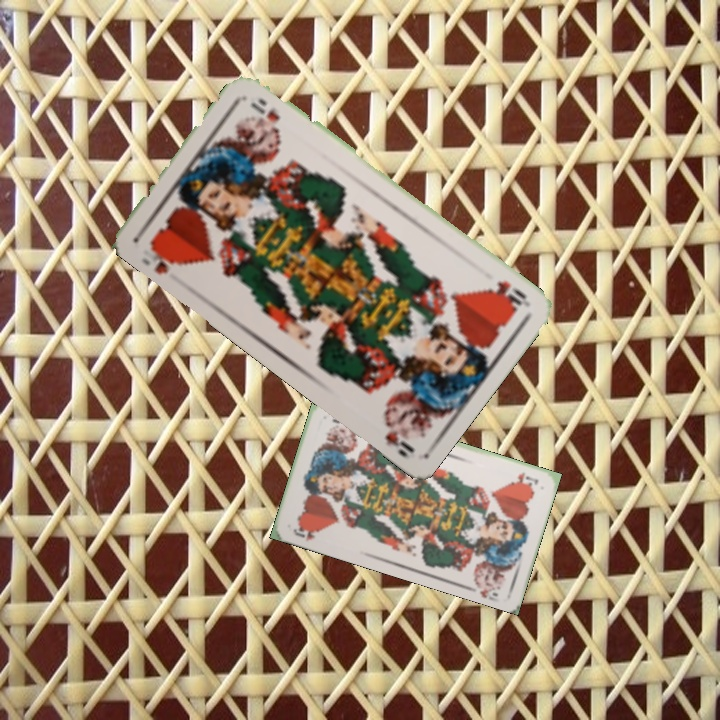HO: (485, 276, 530, 313), (145, 237, 184, 277), (289, 521, 322, 544), (513, 468, 541, 488)
